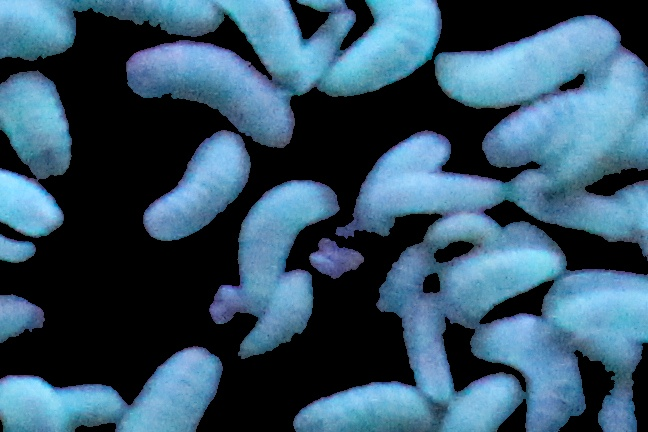larvae: (129, 41, 308, 145), (435, 17, 618, 108), (465, 310, 589, 432), (547, 55, 647, 189), (141, 128, 256, 242), (240, 179, 335, 313), (542, 265, 648, 372), (504, 173, 648, 249), (321, 1, 438, 94), (471, 85, 590, 169), (217, 1, 311, 102), (120, 348, 226, 432), (1, 63, 75, 181), (366, 132, 452, 232), (293, 377, 439, 432), (445, 250, 568, 315), (238, 275, 311, 367), (78, 1, 234, 40), (361, 176, 505, 218), (402, 298, 457, 406), (55, 364, 136, 432), (444, 367, 524, 432), (304, 14, 359, 101), (1, 1, 80, 61), (1, 167, 66, 239), (1, 373, 67, 432), (1, 294, 49, 375), (427, 210, 508, 257), (1, 237, 43, 264), (1, 94, 2, 189)
